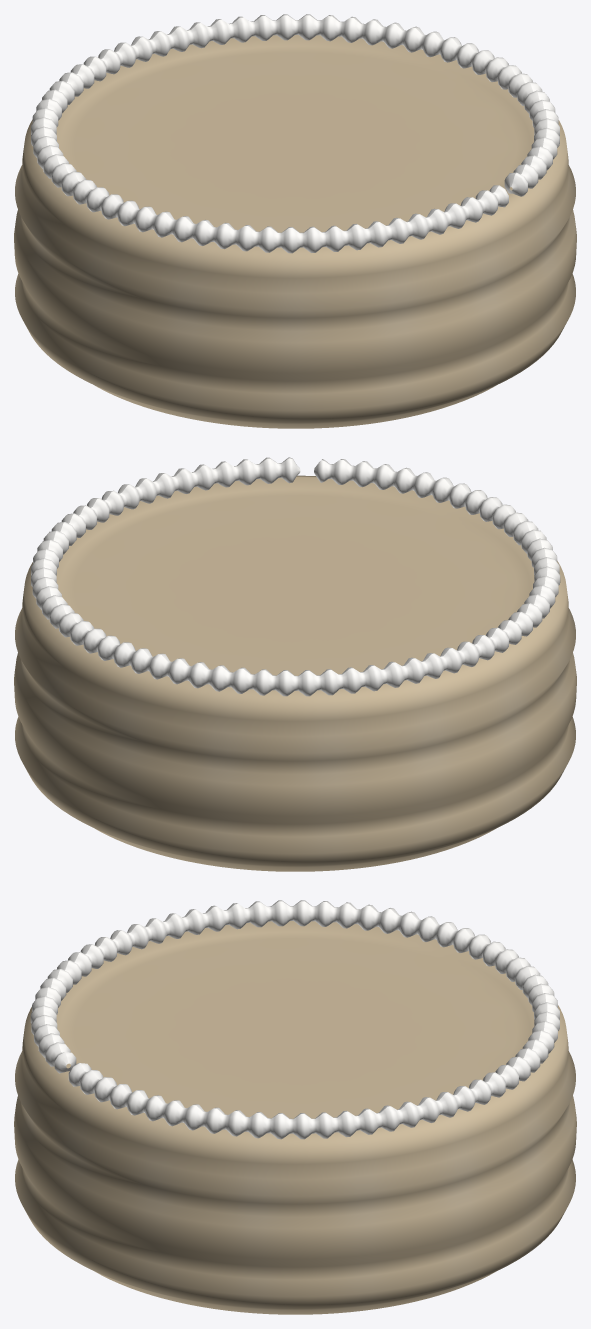
File: cake.glb
The picture shows the model from 3 angles, top to bottom: view 1: azimuth 30°, elevation 25°; view 2: azimuth 150°, elevation 25°; view 3: azimuth 270°, elevation 25°; orthographic projection.
Bounding box in the file's own units: 0.2558 × 0.1022 × 0.2558.
